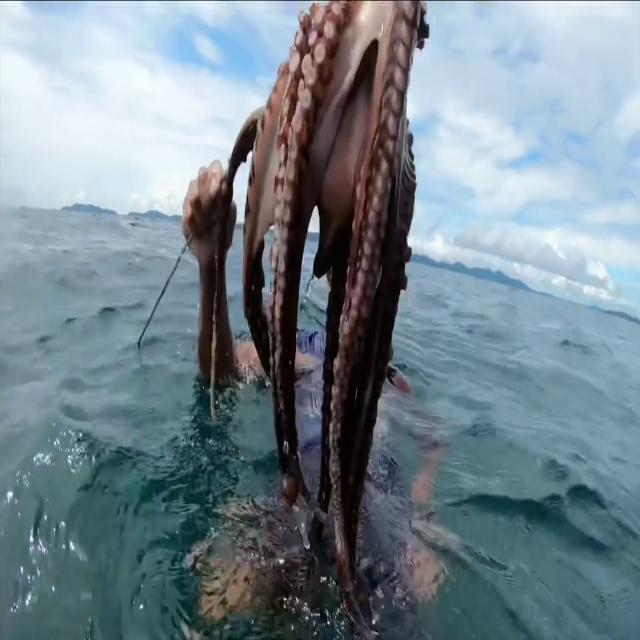octopus: (208, 0, 436, 640)
